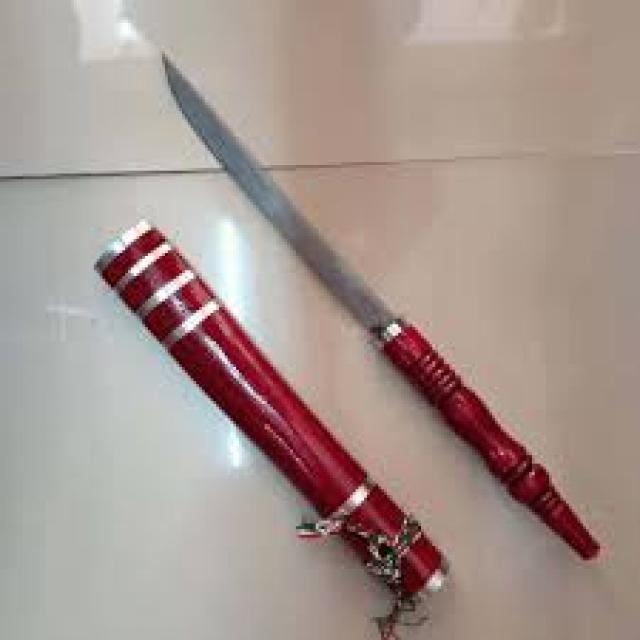long sword: (128, 49, 607, 566)
